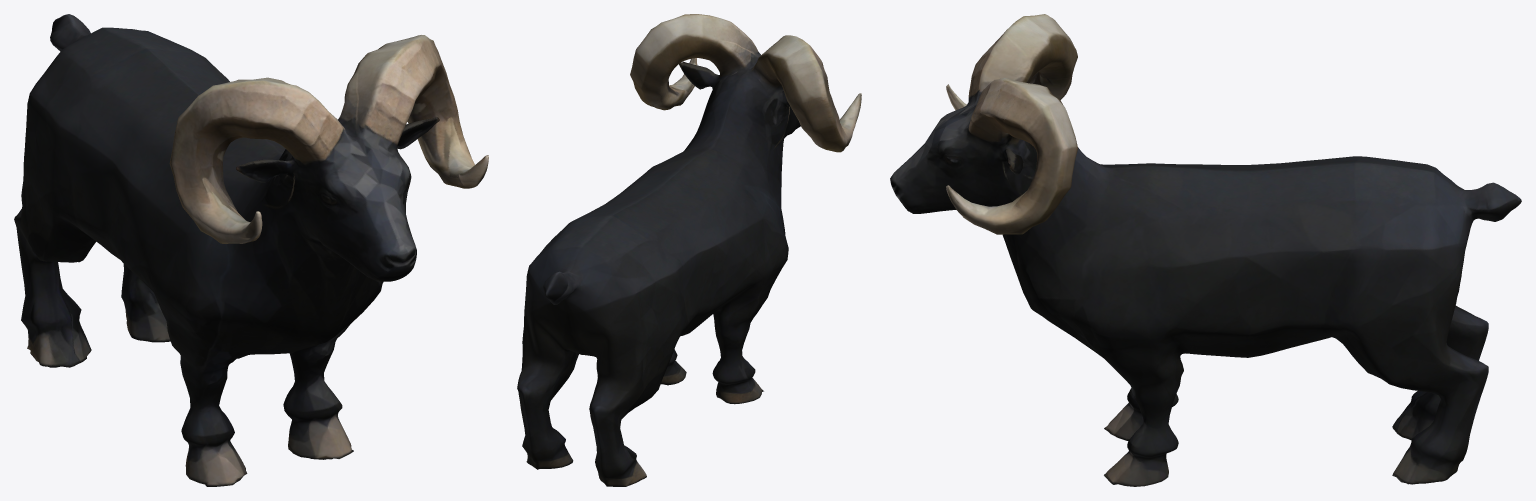
File: Aries.glb
3 views of the same model, side by side, from view 1: azimuth 30°, elevation 25°; view 2: azimuth 150°, elevation 25°; view 3: azimuth 270°, elevation 25° (orthographic). The views are drawn at different scales.
Visible parts, largest first — view 1: Aries; view 2: Aries; view 3: Aries.
Boxes of the visible parts, bbox=[...] form: Aries: bbox=[14, 14, 488, 486]; Aries: bbox=[517, 14, 861, 486]; Aries: bbox=[890, 14, 1521, 486].
Size of the model in its own units: 0.4615 by 0.6937 by 0.9928.
1 material, 1 textured.
